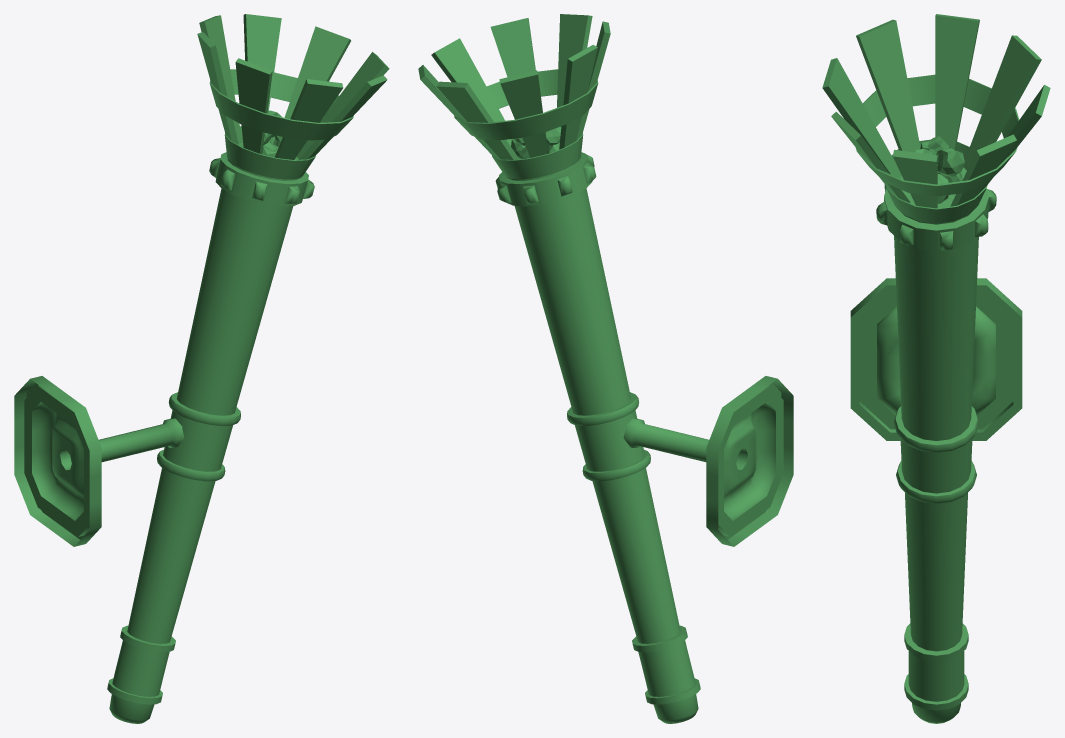
The model's file is torch-lamp.fbx.
The picture shows the model from 3 angles, left to right: view 1: azimuth 30°, elevation 25°; view 2: azimuth 150°, elevation 25°; view 3: azimuth 270°, elevation 25°; orthographic projection. The views are drawn at different scales.
Visible parts, largest first — view 1: torch-lamp; view 2: torch-lamp; view 3: torch-lamp.
Boxes of the visible parts, x1,y1,x2,y2 form: torch-lamp: (14,14,389,723); torch-lamp: (418,14,793,723); torch-lamp: (822,14,1050,723).
Size of the model in its own units: 2.14 by 4.12 by 1.14.
